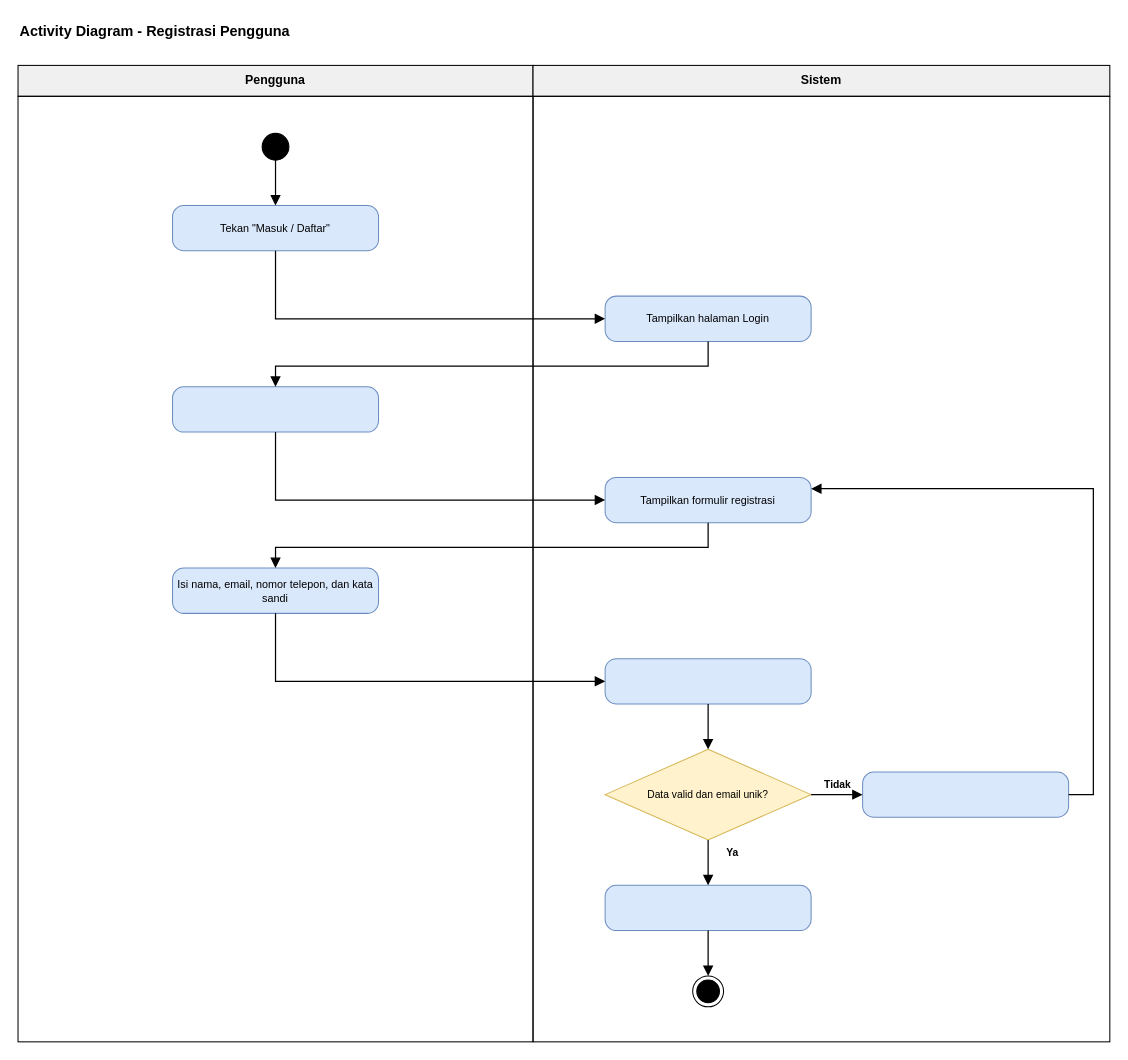
Image size: 1128x1060. Some labels were removed from this diagram. The shapes that lost their labels are listed below. From the top down, each one's centre as x and y in pixels, then its label:
pixel 275 409: Tekan "Daftar sekarang"
pixel 707 681: Periksa data dan keunikan email
pixel 965 794: Tampilkan pesan kesalahan
pixel 707 907: Simpan akun (kata sandi disimpan dalam bentuk hash)
